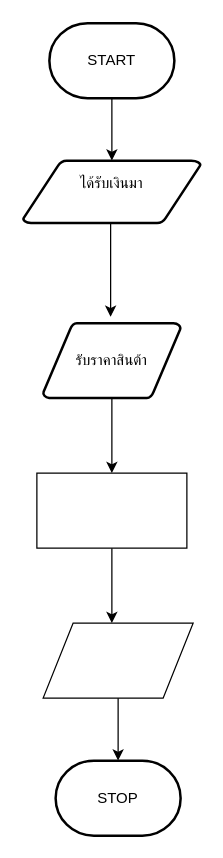
The diagram is 223 pixels wide and 858 high, and some of its shapes have lost their labels. Each missing label, with the centre of its shape:
"คำนวนเงินทอน" belongs at pixel 111 510.
"ค่าเงินทอน" belongs at pixel 117 660.
